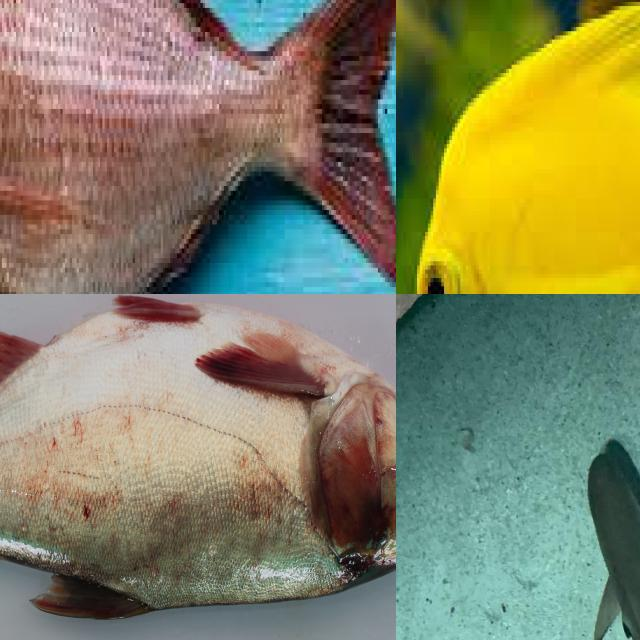fish: (0, 294, 396, 640), (0, 0, 396, 294), (396, 0, 640, 294)
